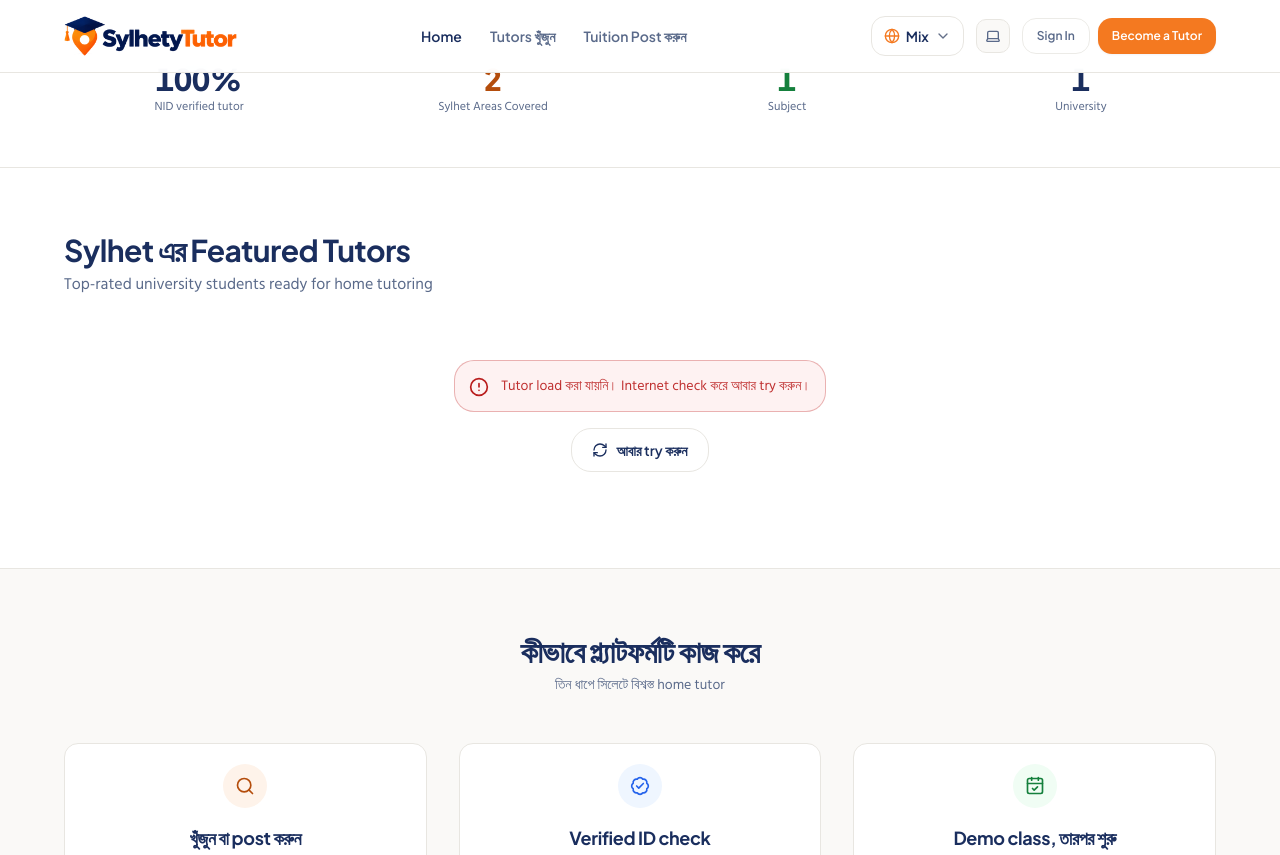
Test: Home › offers a retry when tutors fail to load
(page scrolled)
Click the button "আবার try করুন".
click(640, 450)  # box [572,428,708,472]
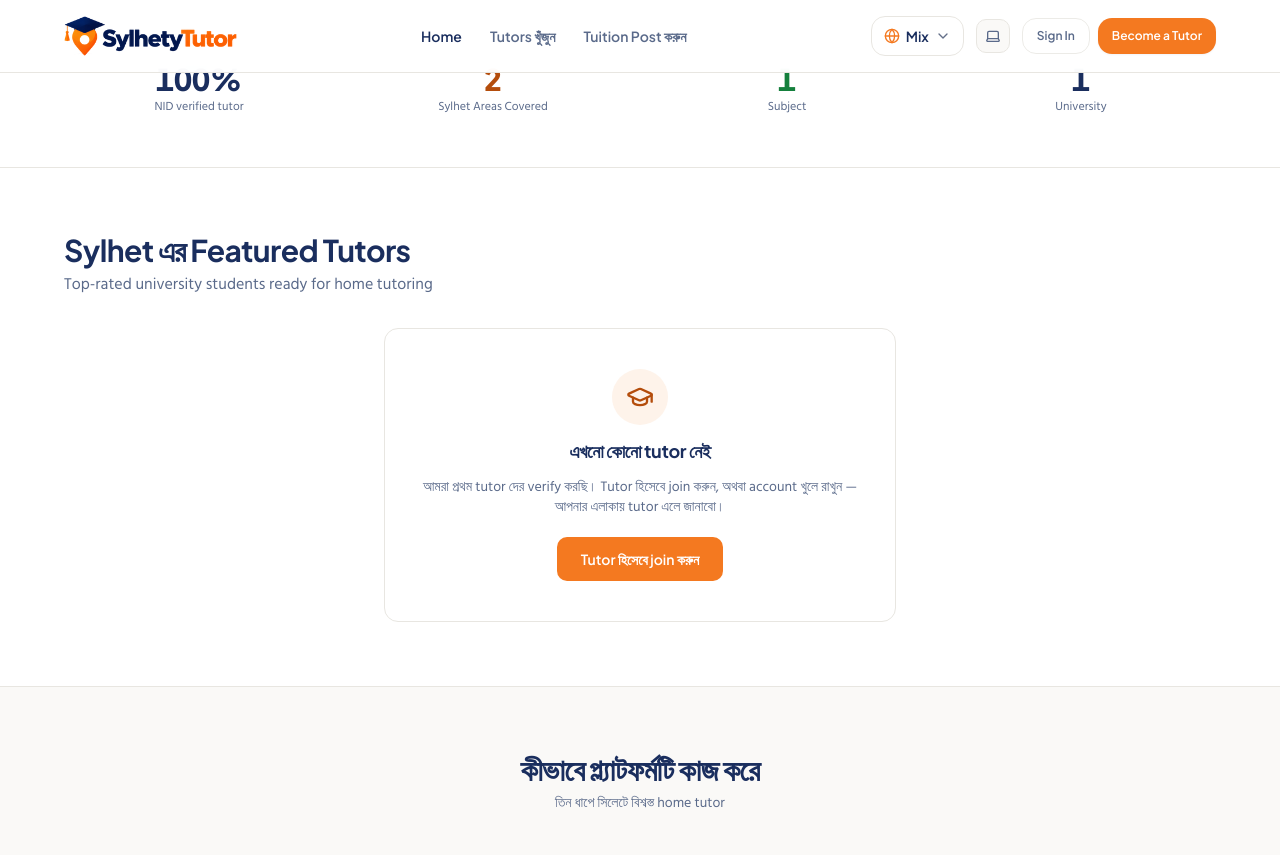
Now the heading "এখনো কোনো tutor নেই" is shown, box [569,437,710,465]
